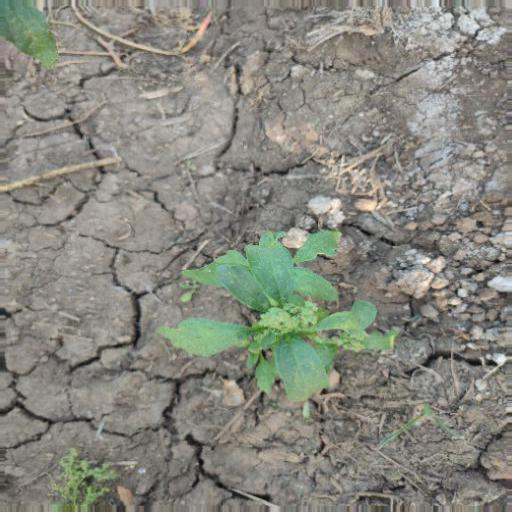weed: (167, 240, 400, 416), (45, 453, 154, 512)
